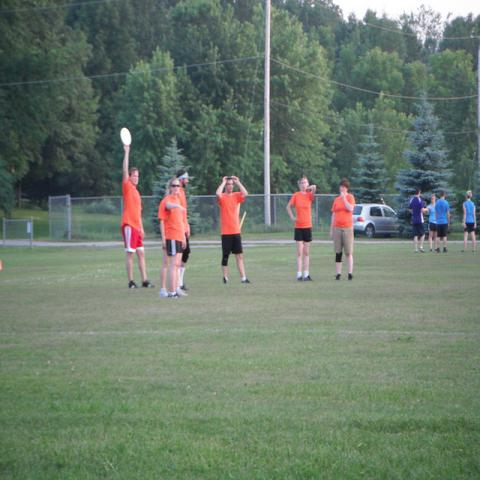car: (353, 203, 400, 240)
